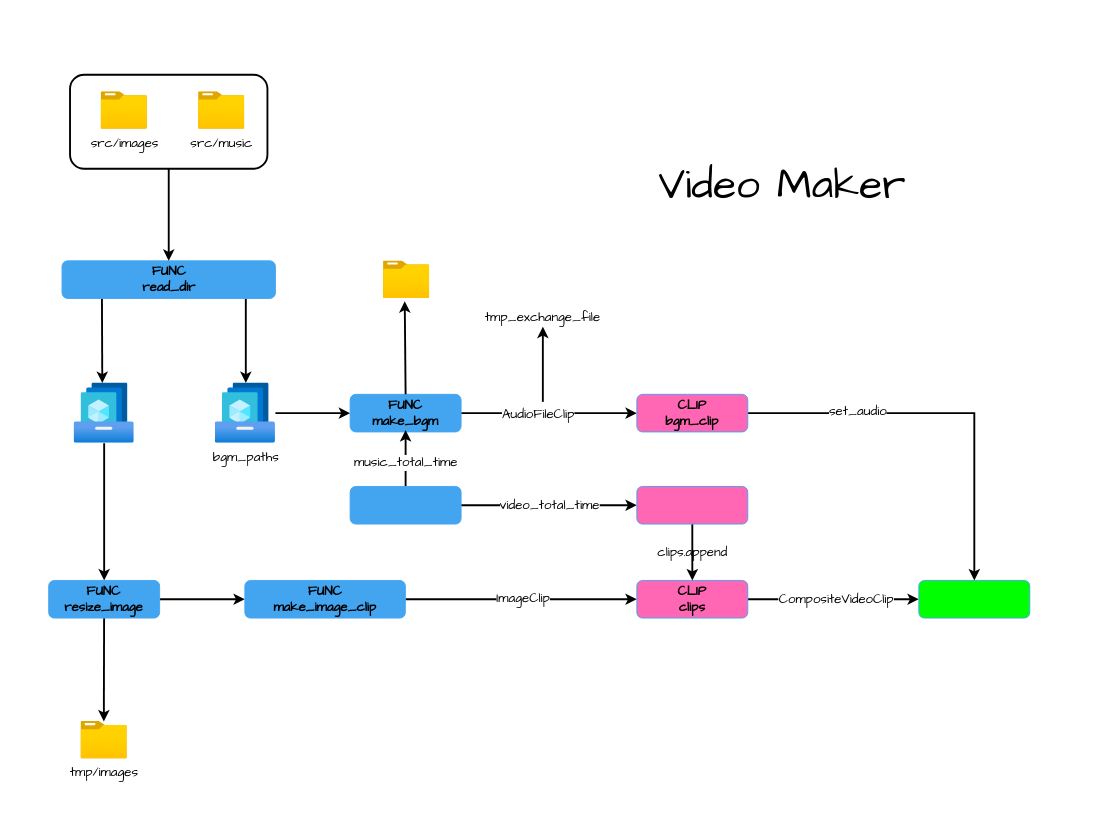
The diagram is 1113 pixels wide and 840 high, and some of its shapes have lost their labels. Each missing label, with the centre of its shape:
"CLIP [start,end] clip" goes at (692,505).
"FILE output_file" goes at (974,599).
"FUNC computed_time" goes at (405,505).
"img_paths" goes at (104,413).
"tmp/music" goes at (406,279).
